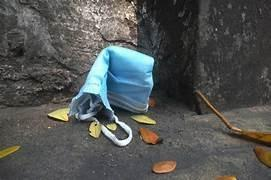Mask: (69, 46, 153, 145)
